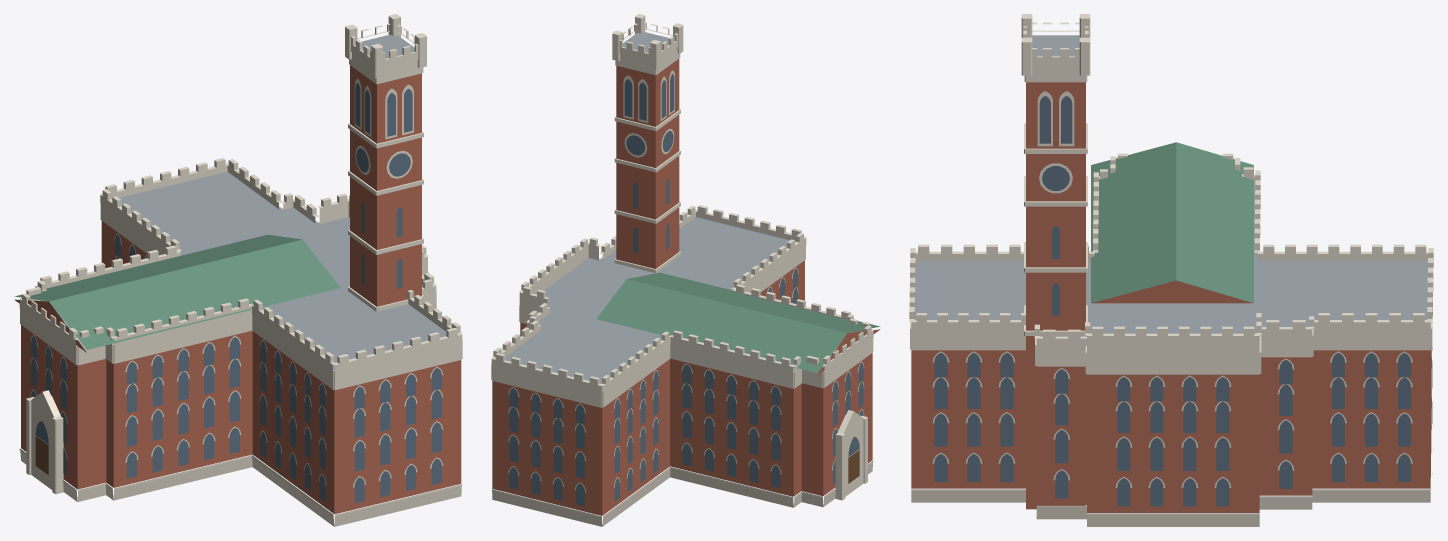
The model's file is nash-kirkland-hall.glb.
3 views of the same model, side by side, from view 1: azimuth 30°, elevation 25°; view 2: azimuth 150°, elevation 25°; view 3: azimuth 270°, elevation 25° (orthographic). The views are drawn at different scales.
Parts seen in each view (by area): view 1: Kirkland Hall; view 2: Kirkland Hall; view 3: Kirkland Hall.
Part boxes in pixels (x1,y1,x2,y2): Kirkland Hall: (14,14,462,526); Kirkland Hall: (491,14,880,526); Kirkland Hall: (909,14,1433,526).
Bounding box in the file's own units: 46.25 × 53.3 × 54.
